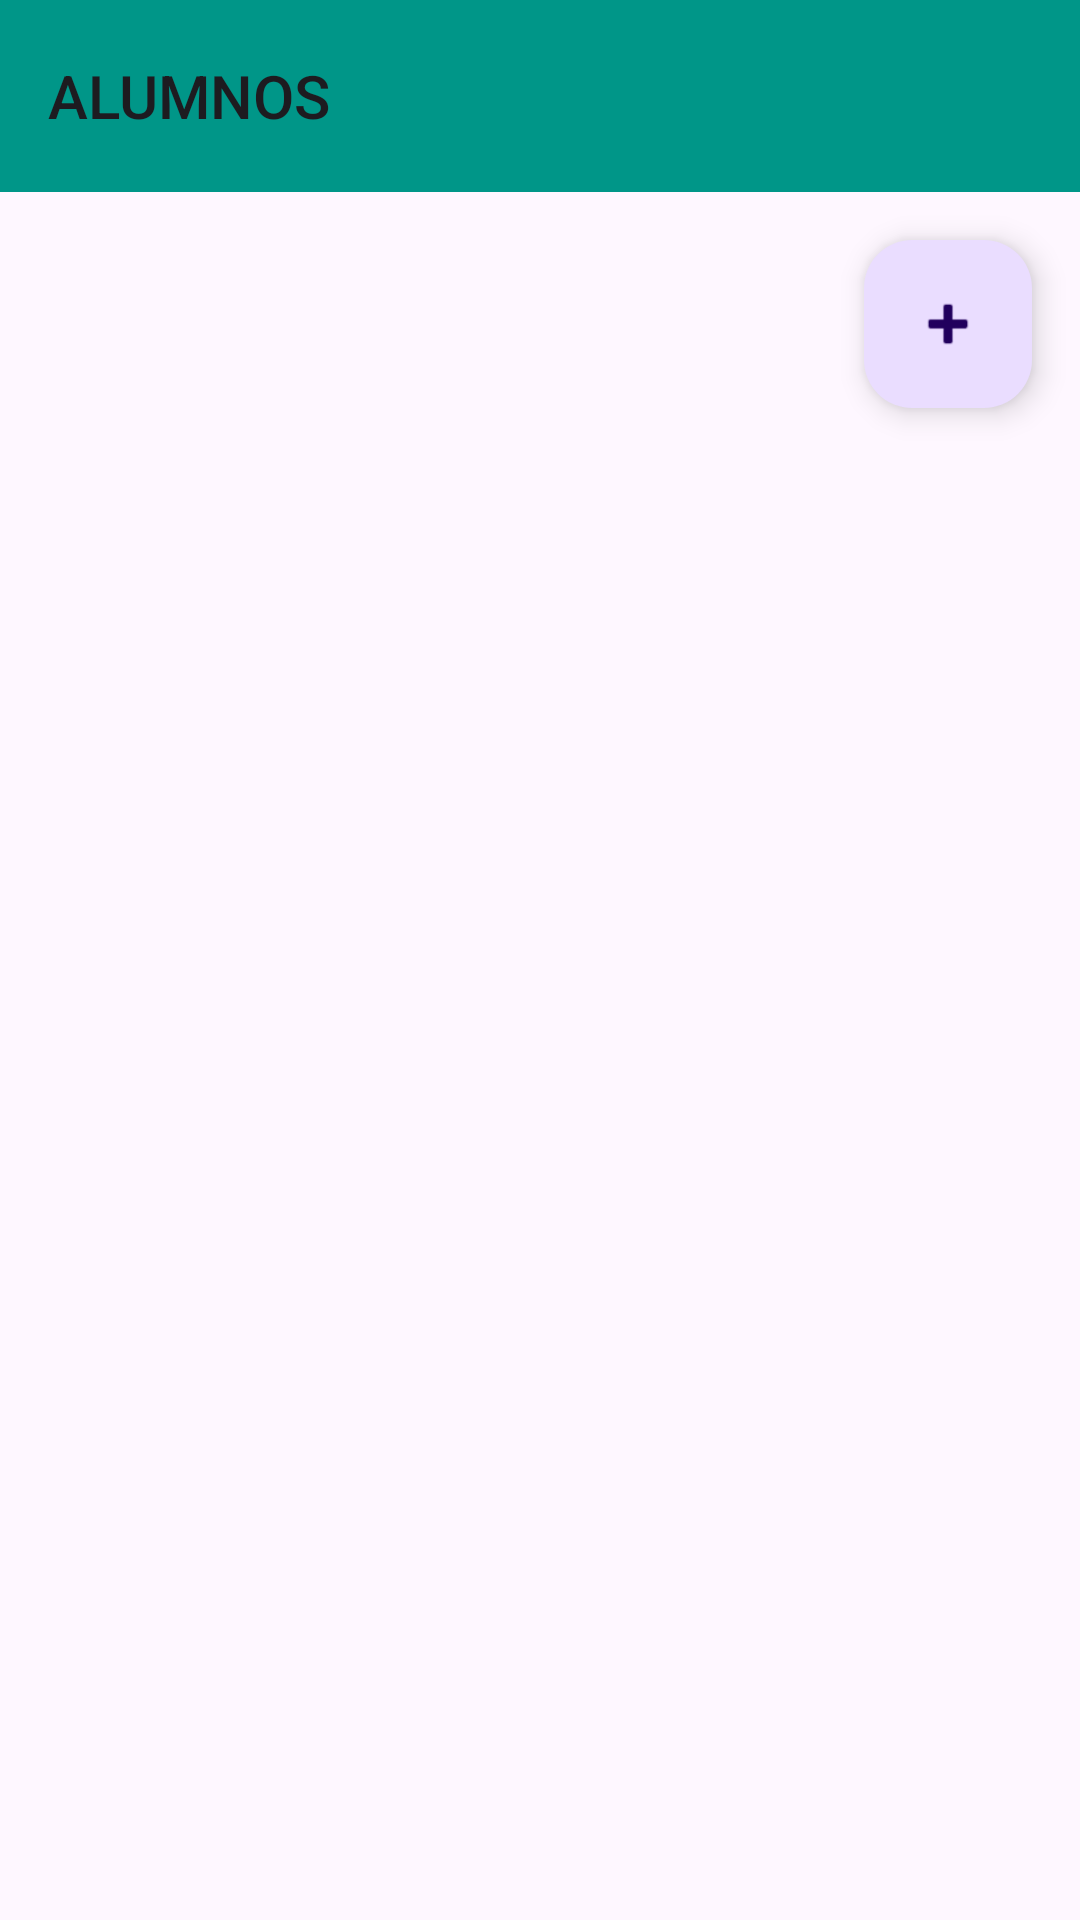

Icons on this 1080 × 1920 Android screen, each with the point to tap as point (x, y):
Agregar Alumno: point (948, 324)
